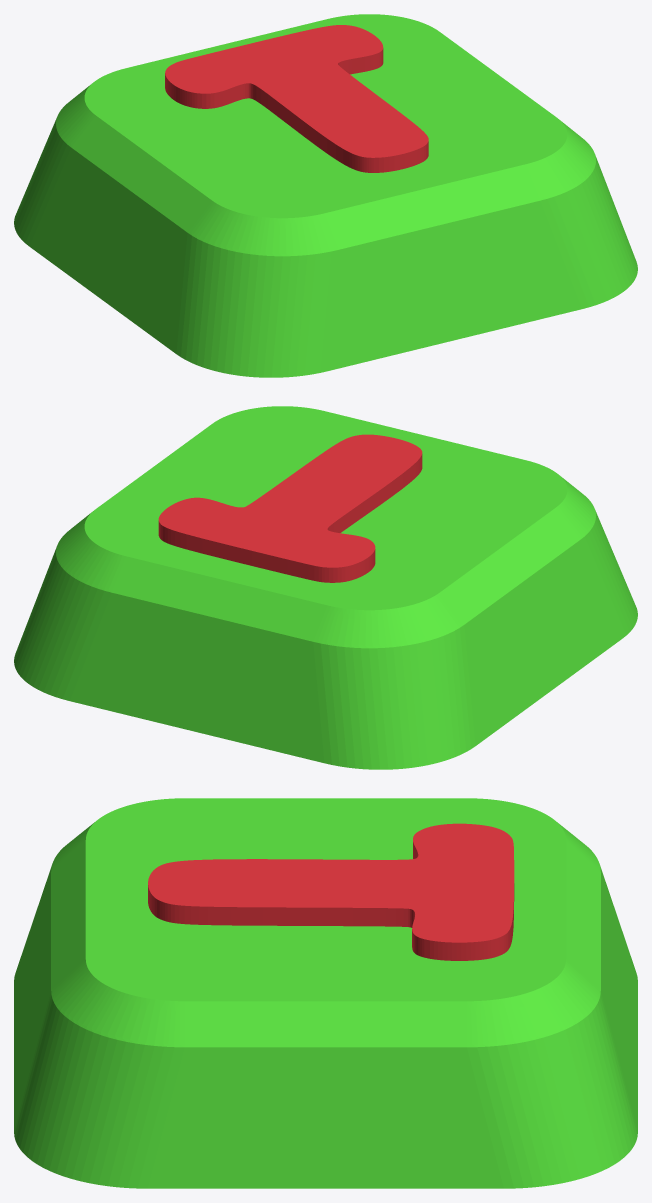
3 renders of one model, top to bottom at view 1: azimuth 30°, elevation 25°; view 2: azimuth 150°, elevation 25°; view 3: azimuth 270°, elevation 25°, orthographic. The views are drawn at different scales.
Parts seen in each view (by area): view 1: CAPS_T, FONT_T; view 2: CAPS_T, FONT_T; view 3: CAPS_T, FONT_T.
Part boxes in pixels (<box>): CAPS_T: <box>14,14,637,377</box>; FONT_T: <box>165,25,428,172</box>; CAPS_T: <box>14,406,637,769</box>; FONT_T: <box>158,434,422,582</box>; CAPS_T: <box>14,798,637,1188</box>; FONT_T: <box>148,823,514,960</box>.
Size of the model in its own units: 18 by 5.59 by 18.
